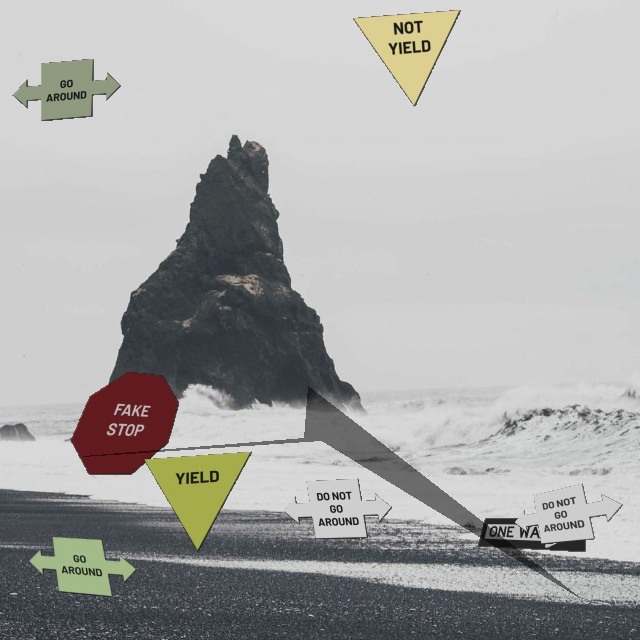DO_NOT_GO_AROUND: (514, 483, 623, 544), (283, 478, 392, 539)
FAKE_STOP: (70, 371, 179, 475)
GO_AROUND: (12, 58, 121, 121), (28, 536, 137, 597)
NOT_YIELD: (352, 9, 461, 107)
ONE_WAY_ right: (477, 517, 586, 552)
YIELD: (143, 451, 252, 552)
